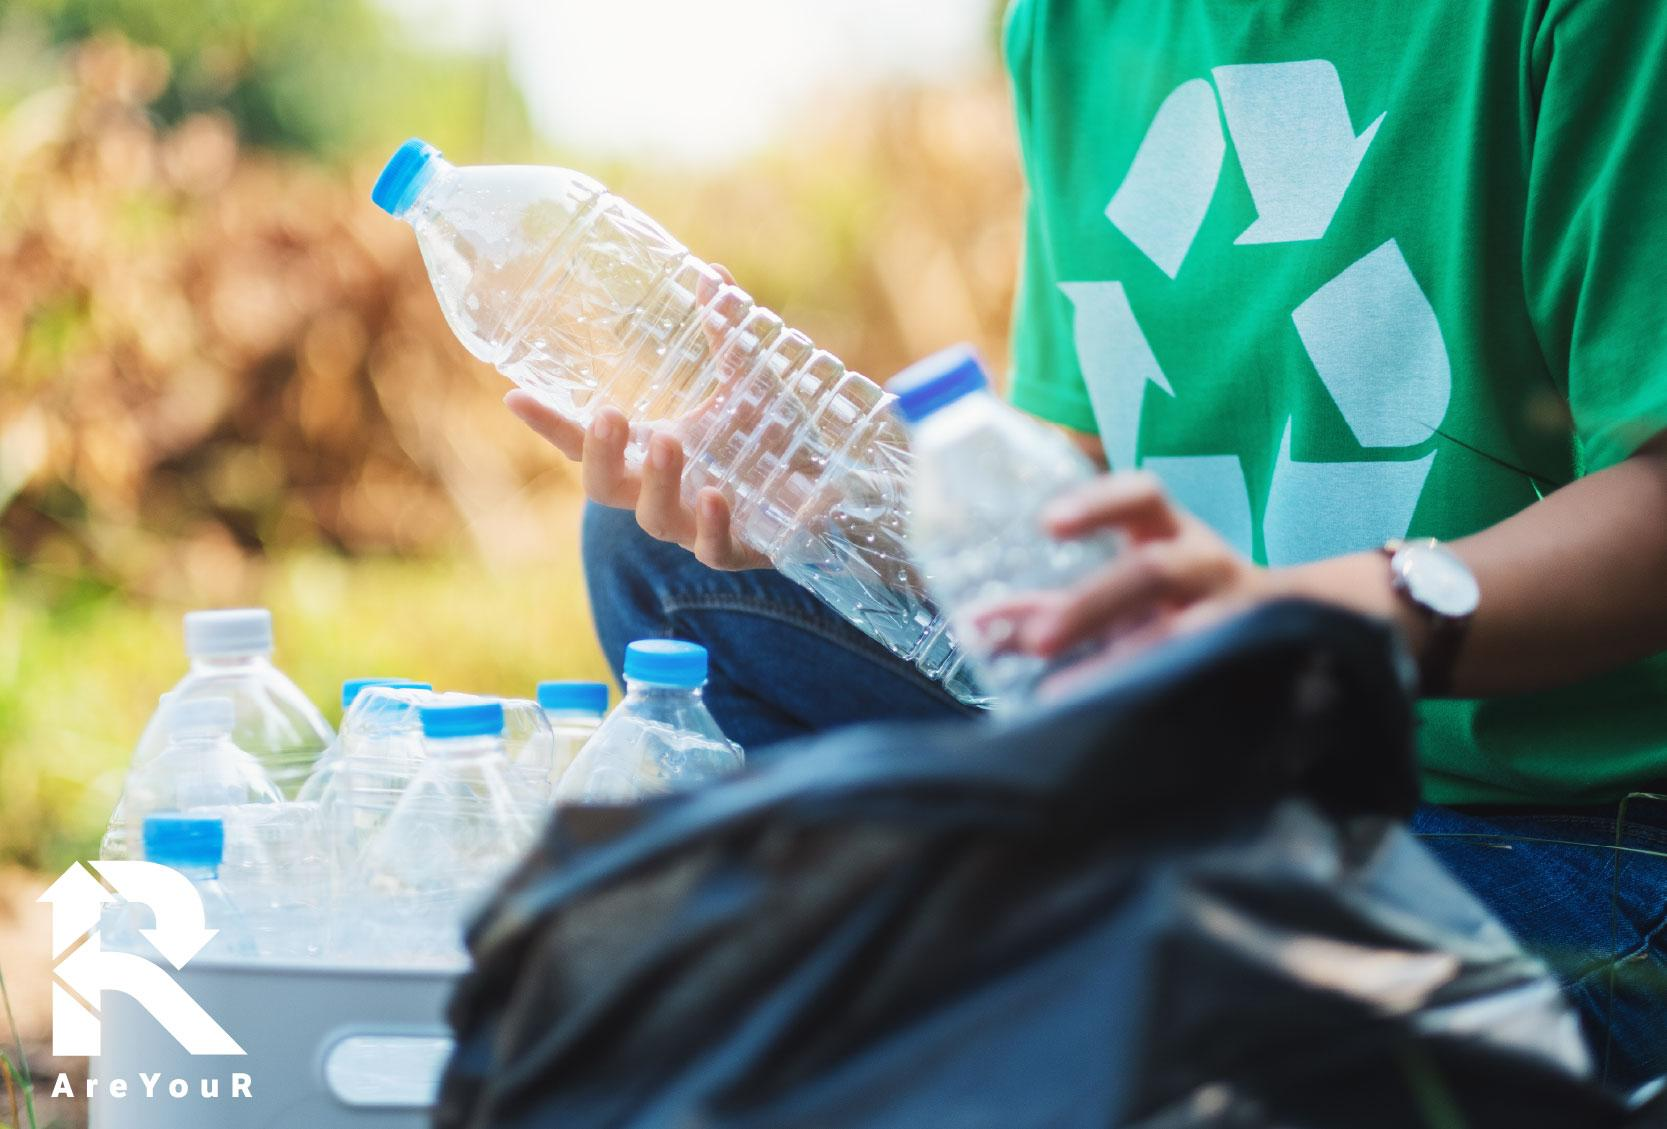paper: (326, 73, 1086, 712), (849, 315, 1158, 717), (135, 573, 373, 799), (527, 625, 747, 815)
